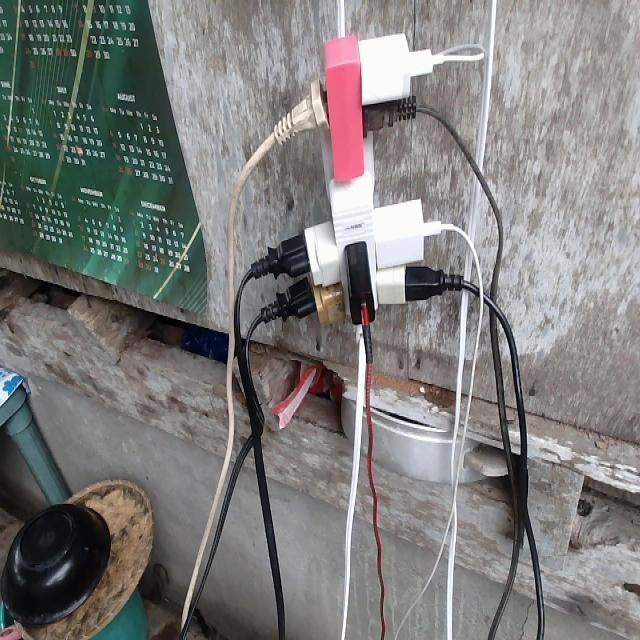-: (248, 27, 467, 357)
